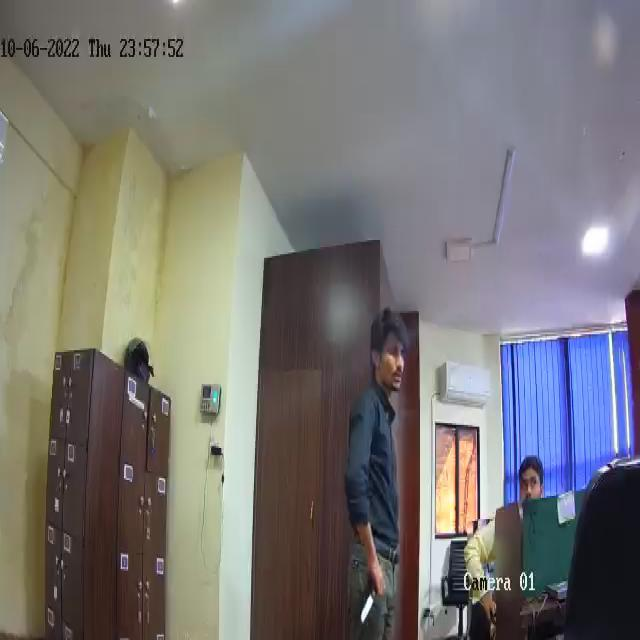Knife: (355, 569, 383, 626)
